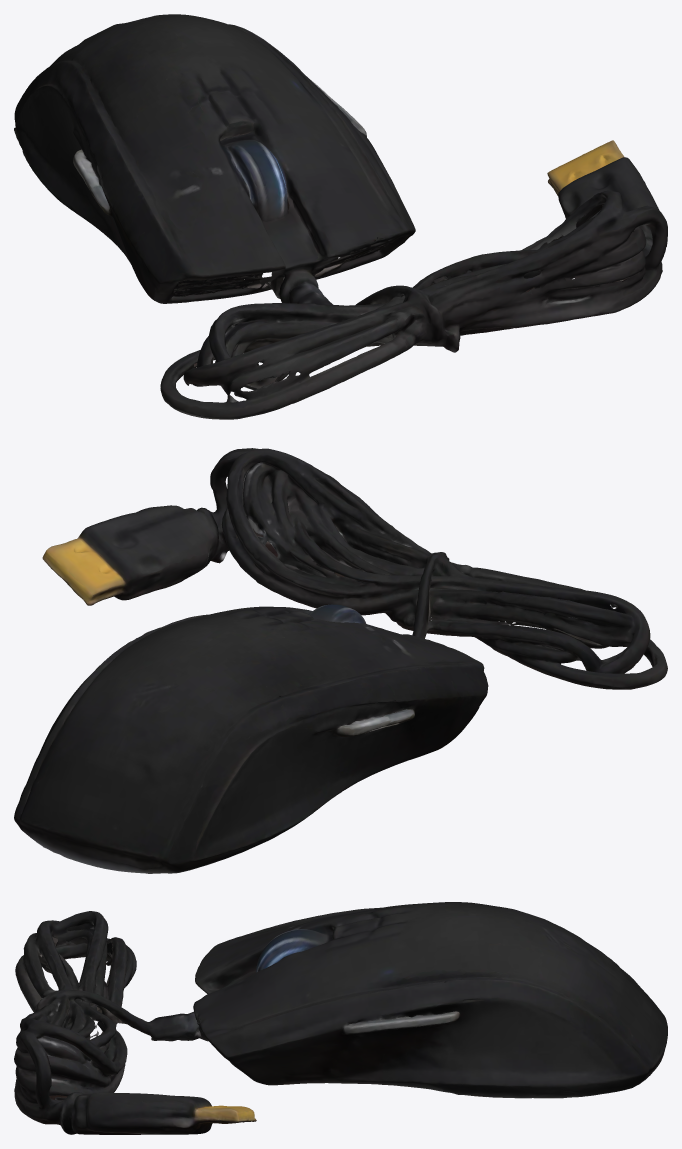
The model's file is Razer_Taipan_Black_Ambidextrous_Gaming_Mouse.glb.
3 renders of one model, top to bottom at view 1: azimuth 30°, elevation 25°; view 2: azimuth 150°, elevation 25°; view 3: azimuth 270°, elevation 25°, orthographic. The views are drawn at different scales.
Visible parts, largest first — view 1: geometry_0; view 2: geometry_0; view 3: geometry_0.
Part boxes in pixels (left/top/right/bottom): geometry_0: left=14, top=14, right=667, bottom=419; geometry_0: left=14, top=448, right=667, bottom=873; geometry_0: left=14, top=902, right=667, bottom=1134.
Bounding box in the file's own units: 0.8318 × 0.2312 × 1.
1 material, 1 textured.
